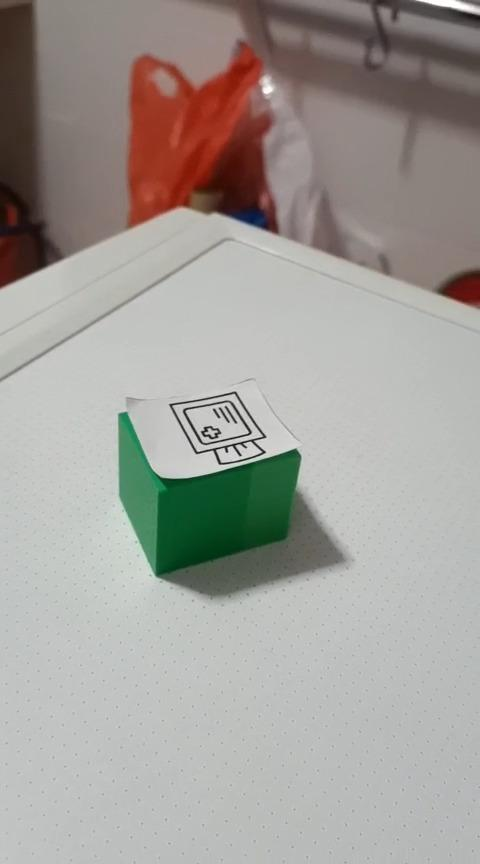Gauze: (116, 376, 303, 577)
